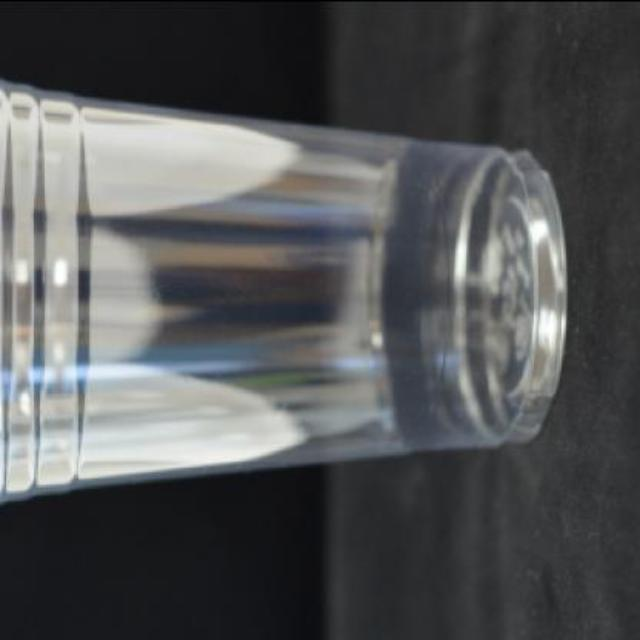plastic_box: (0, 42, 566, 532)
